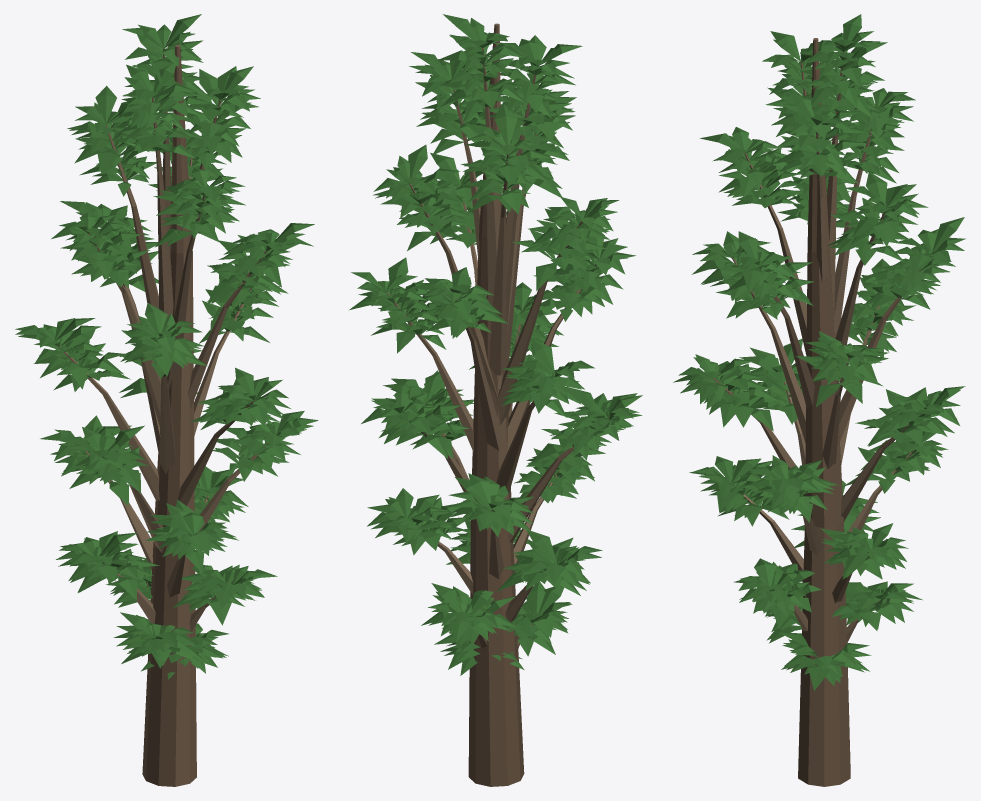
The model's file is cypress_lod0.glb.
3 renders of one model, left to right at view 1: azimuth 30°, elevation 25°; view 2: azimuth 150°, elevation 25°; view 3: azimuth 270°, elevation 25°, orthographic. The views are drawn at different scales.
Parts seen in each view (by area): view 1: cypress; view 2: cypress; view 3: cypress.
Part boxes in pixels (box(x1,y1,x2,y2)): cypress: box(15, 14, 318, 786); cypress: box(349, 14, 642, 786); cypress: box(673, 14, 965, 786).
Size of the model in its own units: 2.03 by 5.69 by 2.03.
